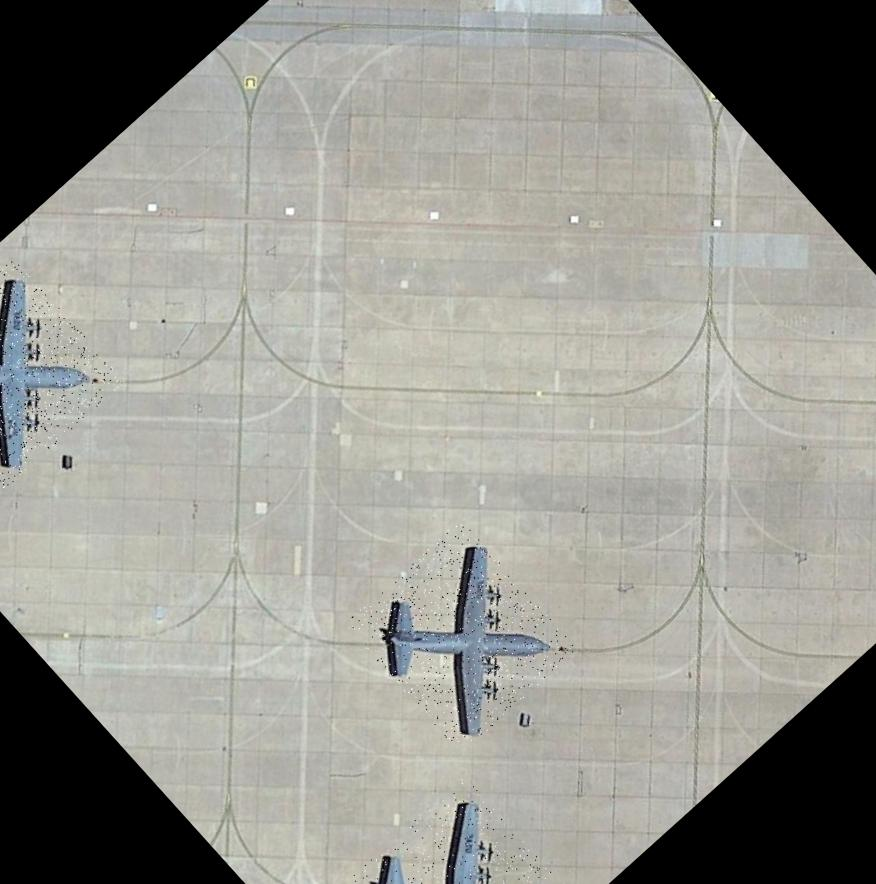A2: (344, 518, 578, 754), (0, 256, 125, 492), (342, 774, 573, 884)
